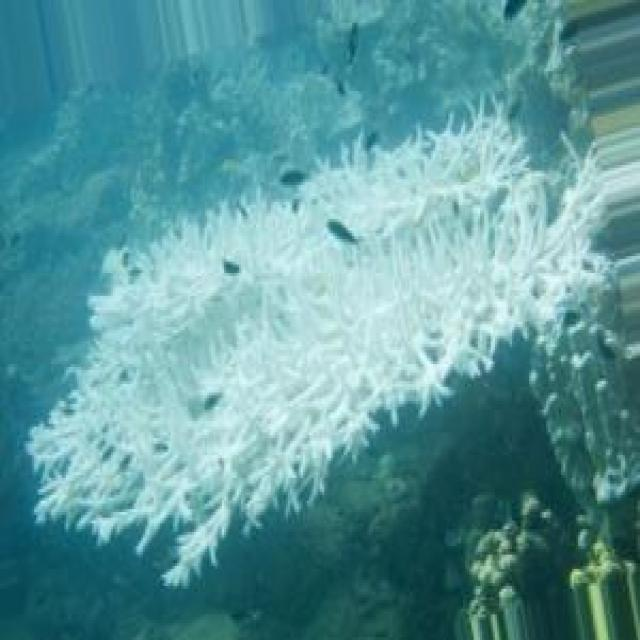bleached coral: (329, 199, 495, 284), (154, 299, 237, 415), (250, 253, 346, 353), (224, 449, 335, 532), (128, 236, 226, 324), (43, 424, 145, 506), (533, 199, 597, 313), (373, 304, 450, 390)
healthy coral: (367, 20, 461, 111), (215, 77, 301, 165), (62, 91, 160, 165), (0, 210, 92, 284), (352, 552, 414, 640), (60, 543, 124, 623), (491, 492, 533, 540)
